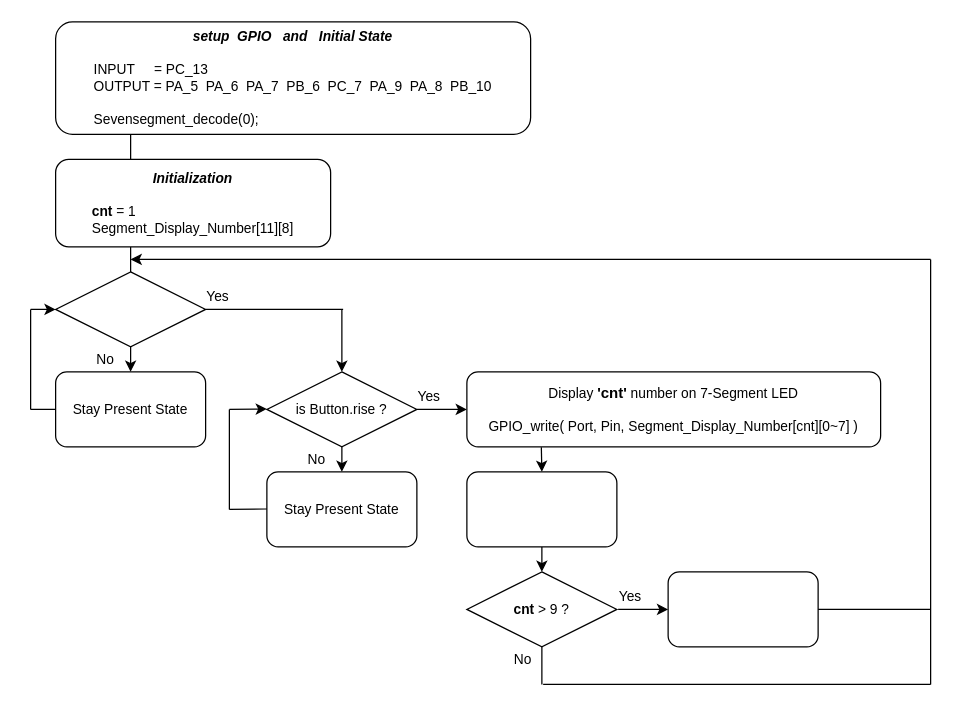
This 963x708 diagram has some shape labels left out. Here are the shapes that lost their labels. From the top down, the centre of each, then its label:
(130,309): is Button.fall ?
(541,509): cnt ++
(742,609): cnt = 0
